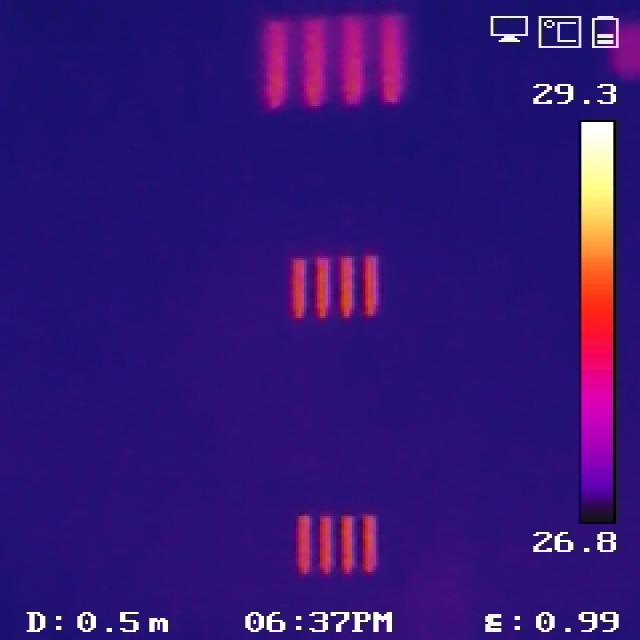Distinguishable 4-bar target: (250, 14, 410, 105), (285, 251, 380, 320), (293, 512, 383, 580)
